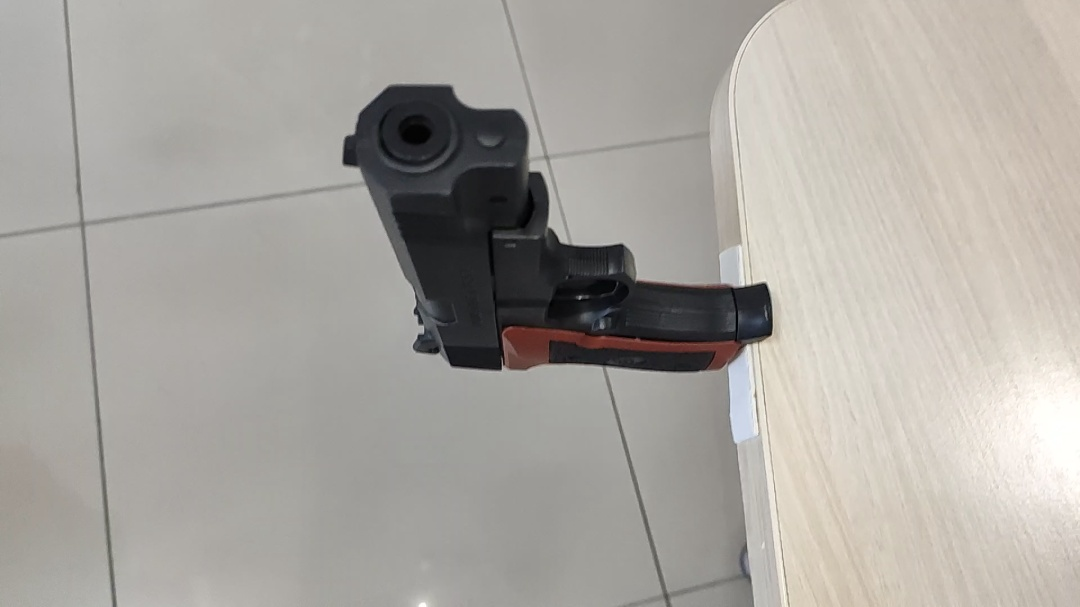gun: (339, 81, 775, 376)
